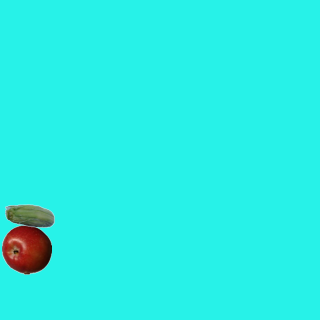Apple Braeburn: (1, 224, 51, 274)
Corn Husk: (4, 192, 54, 242)
